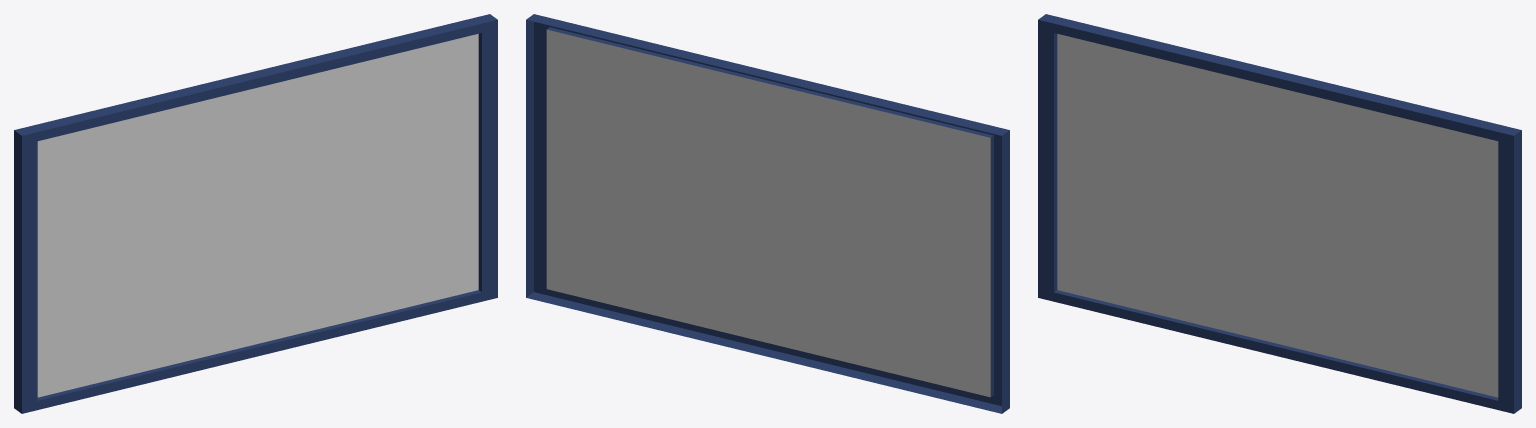
The model's file is AddSign.fbx.
The picture shows the model from 3 angles, left to right: view 1: azimuth 30°, elevation 25°; view 2: azimuth 150°, elevation 25°; view 3: azimuth 330°, elevation 25°; orthographic projection.
Visible parts, largest first — view 1: pCube64; view 2: pCube64; view 3: pCube64.
Boxes of the visible parts, x1,y1,x2,y2 form: pCube64: [14, 14, 497, 413]; pCube64: [526, 14, 1009, 413]; pCube64: [1038, 14, 1521, 413].
Bounding box in the file's own units: 936 × 523 × 26.83.
